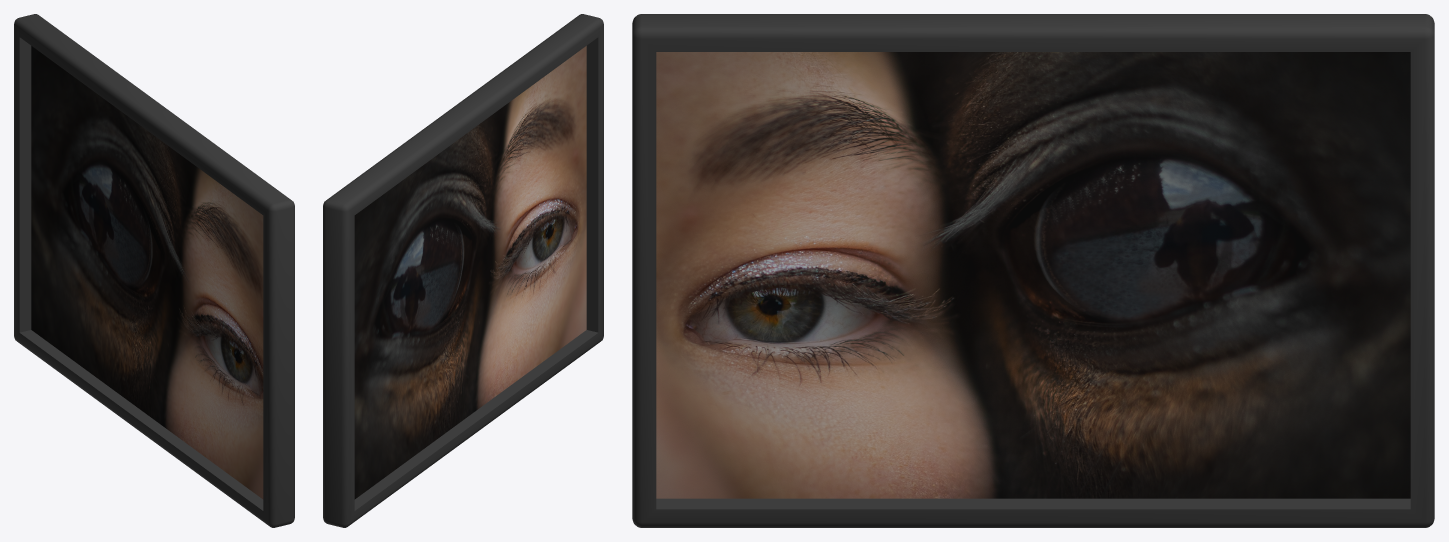
Rendered from Picture.fbx.
3 views of the same model, side by side, from view 1: azimuth 30°, elevation 25°; view 2: azimuth 150°, elevation 25°; view 3: azimuth 270°, elevation 25° (orthographic). The views are drawn at different scales.
Visible parts, largest first — view 1: Plane, FrameDoor; view 2: Plane, FrameDoor; view 3: Plane, FrameDoor.
Boxes of the visible parts, x1,y1,x2,y2 form: Plane: (31, 46, 263, 499); FrameDoor: (14, 14, 294, 527); Plane: (354, 46, 586, 499); FrameDoor: (323, 14, 603, 527); Plane: (656, 52, 1410, 498); FrameDoor: (632, 14, 1434, 527).
Bounding box in the file's own units: 4.83 × 57.56 × 83.61.
Materials: 2 (1 with a texture image).
